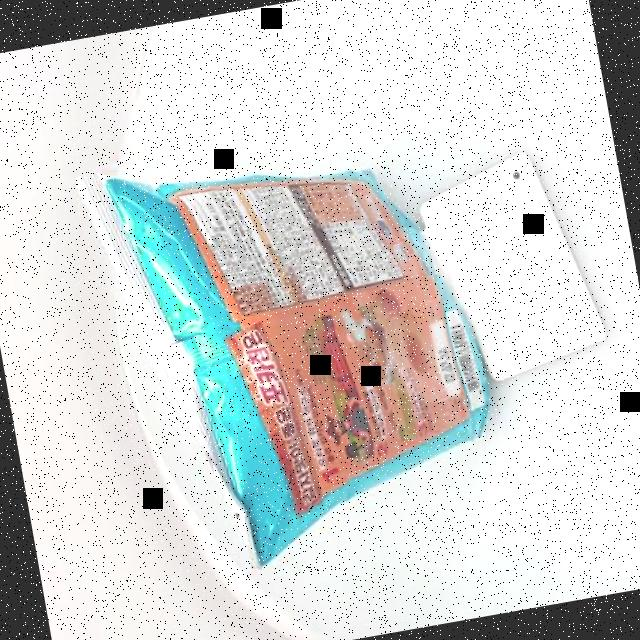snack_bag: (41, 74, 552, 613)
